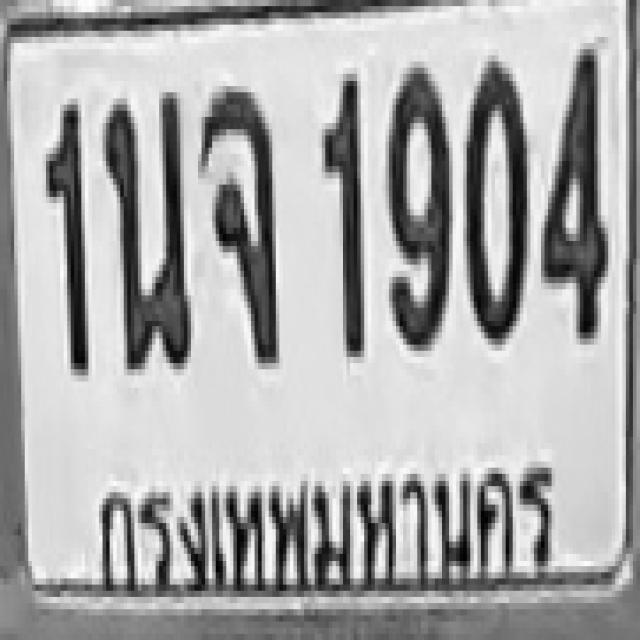0: (463, 55, 527, 338), (385, 65, 449, 348)
1: (318, 71, 364, 354), (42, 98, 88, 376)
17ChorChan: (200, 89, 278, 366)
34NorNu: (102, 90, 191, 372)
4: (540, 43, 606, 339)
9: (385, 65, 449, 348)
Bangkok: (94, 460, 562, 607)
